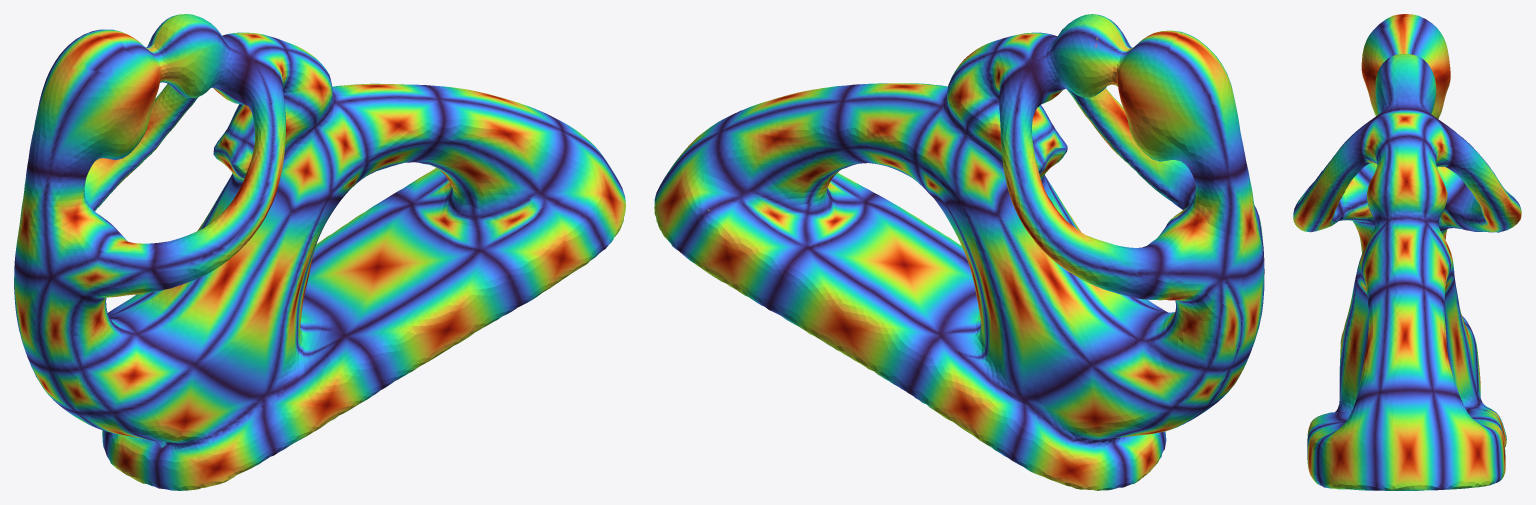
The model's file is gen2.glb.
3 renders of one model, left to right at view 1: azimuth 30°, elevation 25°; view 2: azimuth 150°, elevation 25°; view 3: azimuth 270°, elevation 25°, orthographic. The views are drawn at different scales.
Parts seen in each view (by area): view 1: Node; view 2: Node; view 3: Node.
Boxes of the visible parts, x1,y1,x2,y2 form: Node: (14, 14, 625, 490); Node: (654, 14, 1264, 490); Node: (1293, 14, 1521, 490).
Bounding box in the file's own units: 199 × 144 × 73.25.
1 material, 1 textured.
